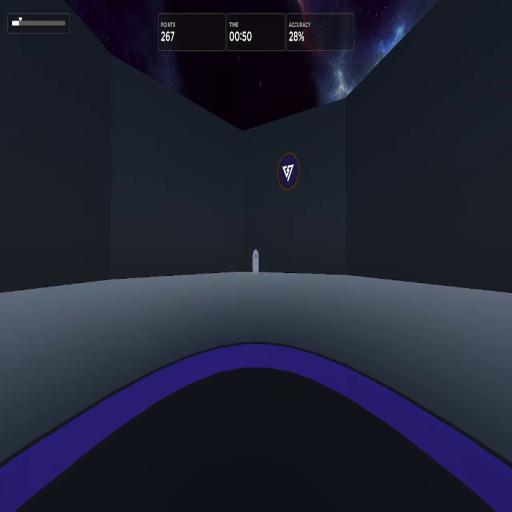Crosshair: (255, 254, 257, 257)
Target: (252, 248, 259, 275)
